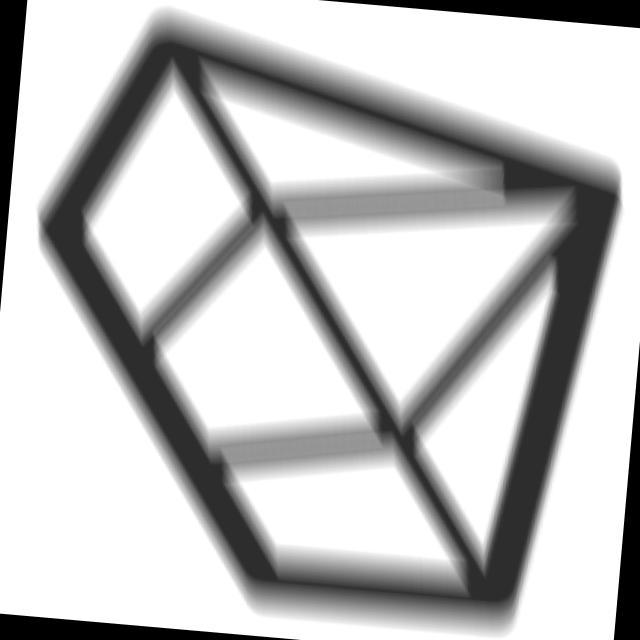diamond: (1, 1, 637, 640)
